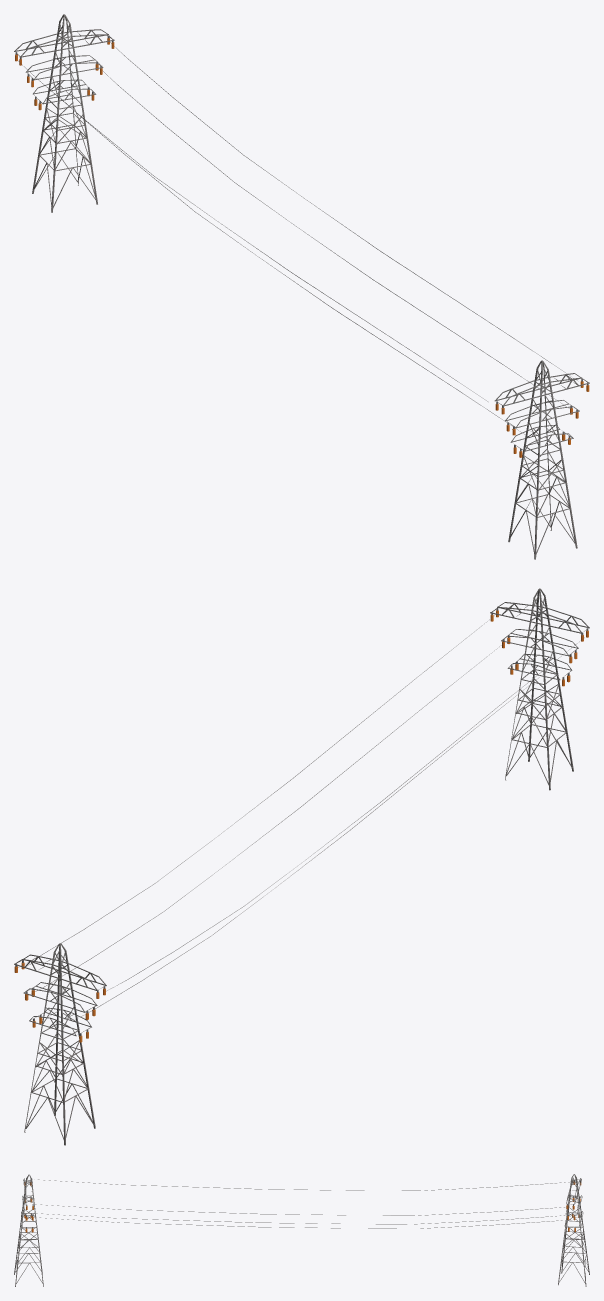
File: alternatif.fbx
3 views of the same model, one above another, from view 1: azimuth 30°, elevation 25°; view 2: azimuth 150°, elevation 25°; view 3: azimuth 270°, elevation 25° (orthographic). The views are drawn at different scales.
Visible parts, largest first — view 1: alternatif1; view 2: alternatif1; view 3: alternatif1.
Part boxes in pixels (x1=…): alternatif1: x1=14, y1=14, x2=589, y2=559; alternatif1: x1=14, y1=588, x2=589, y2=1145; alternatif1: x1=14, y1=1174, x2=589, y2=1286.
Bounding box in the file's own units: 382 × 715 × 3517.
1 material, 1 textured.
